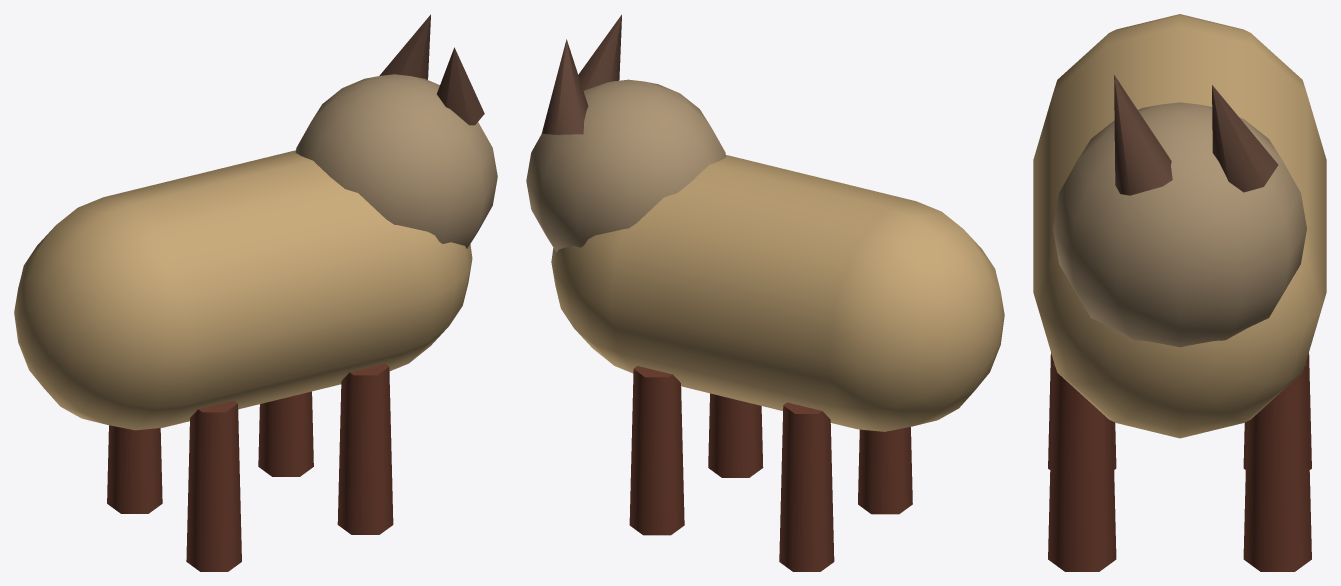
The model's file is goat.glb.
3 views of the same model, side by side, from view 1: azimuth 30°, elevation 25°; view 2: azimuth 150°, elevation 25°; view 3: azimuth 270°, elevation 25° (orthographic). The views are drawn at different scales.
Visible parts, largest first — view 1: goat; view 2: goat; view 3: goat.
Boxes of the visible parts, x1,y1,x2,y2 form: goat: (14, 14, 497, 571); goat: (526, 14, 1004, 571); goat: (1033, 14, 1326, 571).
Size of the model in its own units: 0.66 by 0.6162 by 0.3.
